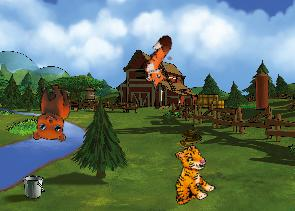bear: (26, 82, 73, 144)
fox: (132, 32, 190, 94)
tiger: (157, 142, 221, 210)
